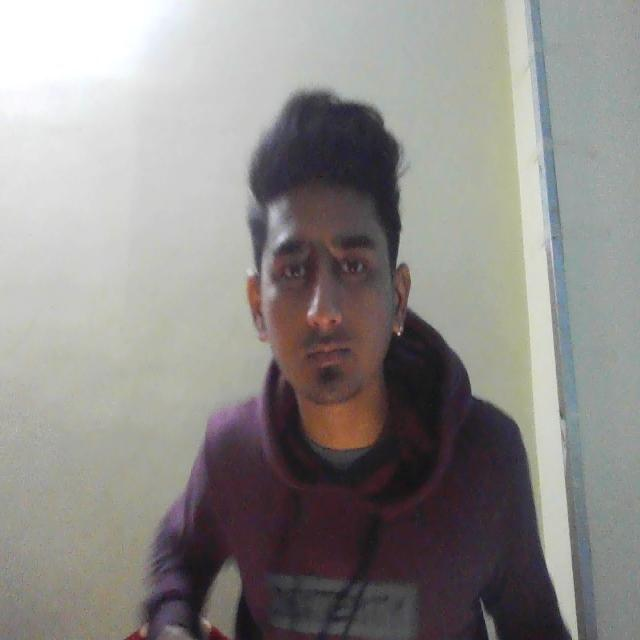real: (248, 103, 423, 433)
